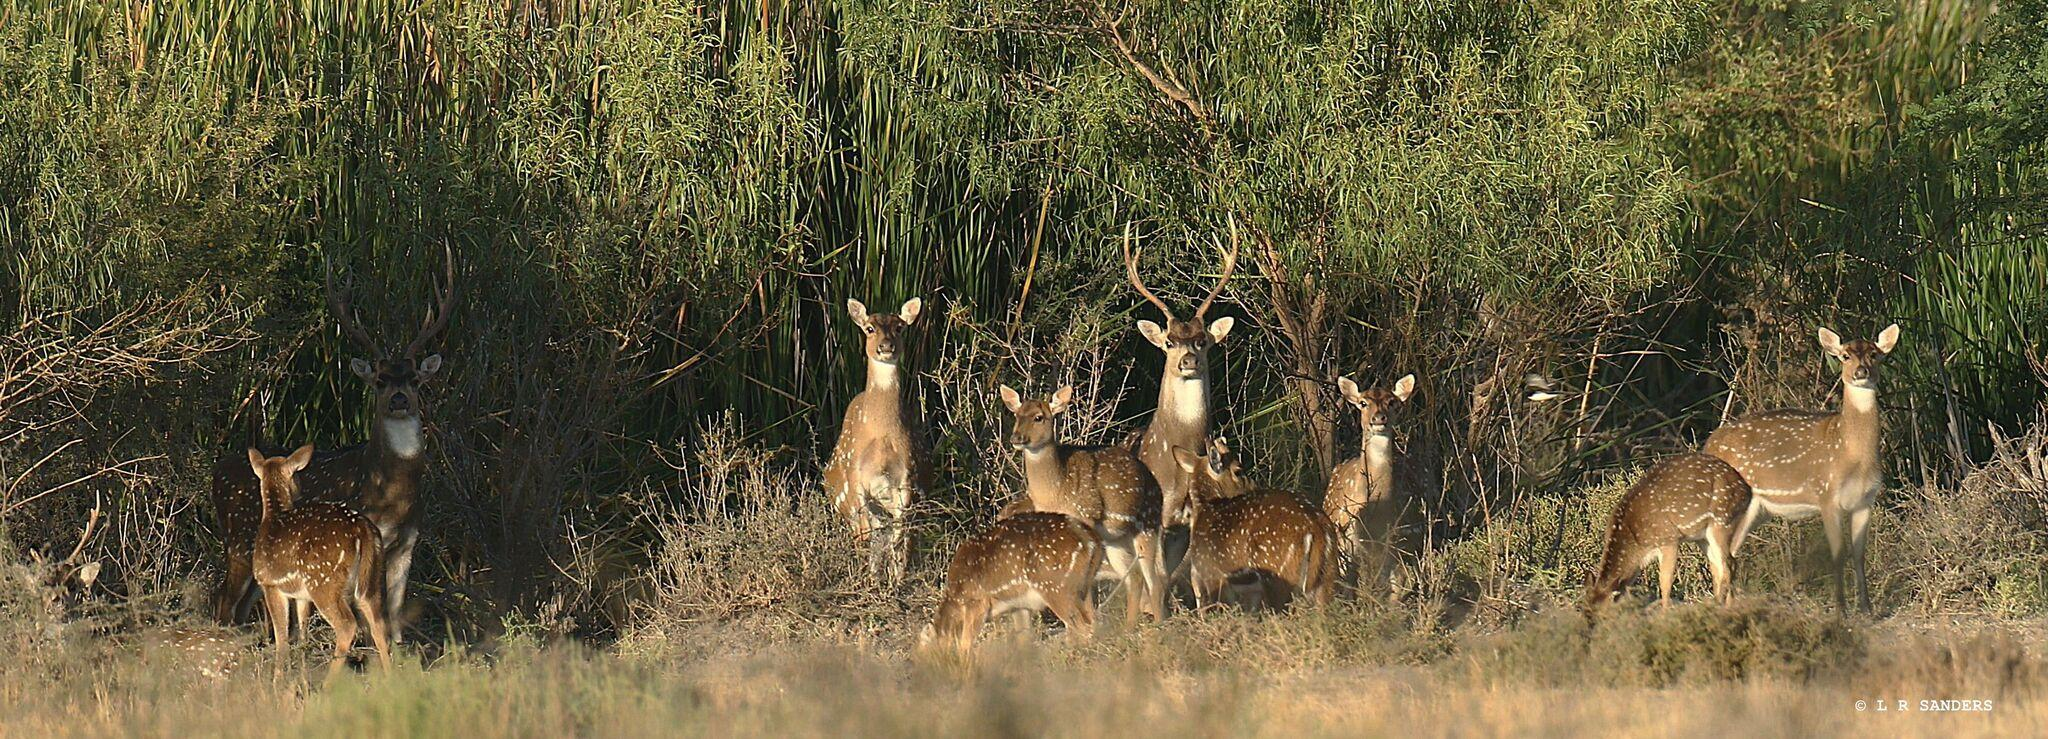Deer: (294, 236, 462, 623), (1702, 325, 1899, 610), (1002, 386, 1161, 610), (1155, 436, 1341, 608), (248, 447, 387, 668), (1580, 453, 1765, 611), (1123, 213, 1241, 437), (926, 512, 1101, 653), (825, 298, 923, 544), (1323, 375, 1415, 513)
